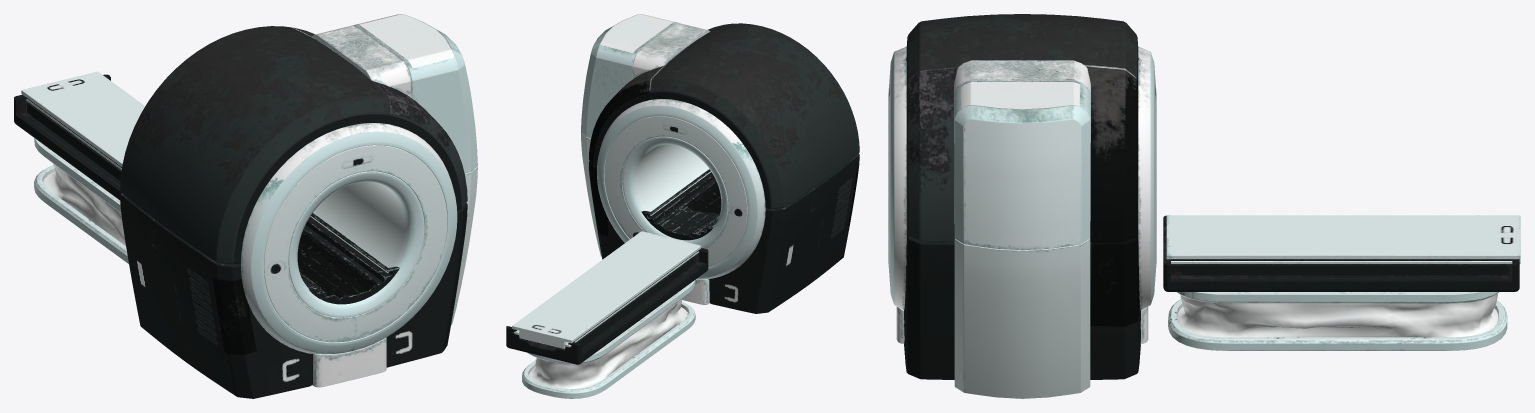
Rendered from mri-machine-transformed.glb.
3 renders of one model, left to right at view 1: azimuth 30°, elevation 25°; view 2: azimuth 150°, elevation 25°; view 3: azimuth 270°, elevation 25°, orthographic. The views are drawn at different scales.
Parts seen in each view (by area): view 1: Cube:046_Cube:054_None_0; view 2: Cube:046_Cube:054_None_0; view 3: Cube:046_Cube:054_None_0.
Part boxes in pixels (box(x1,y1,x2,y2)): Cube:046_Cube:054_None_0: box(14, 14, 477, 398); Cube:046_Cube:054_None_0: box(506, 14, 859, 398); Cube:046_Cube:054_None_0: box(888, 14, 1520, 398).
Bounding box in the file's own units: 2.06 × 1.85 × 3.57.
Materials: 1 (1 with a texture image).
